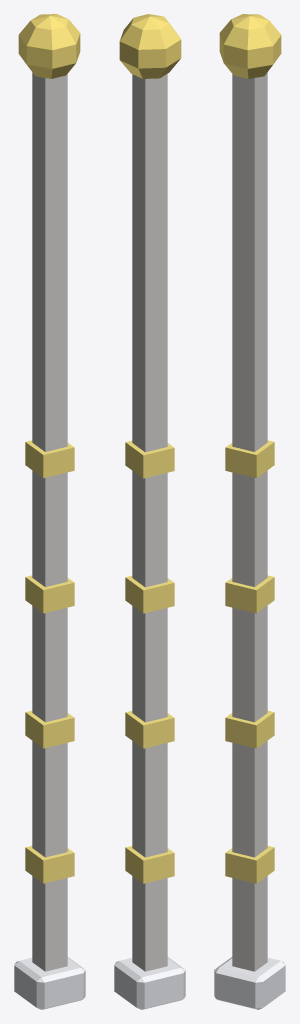
The model's file is CF_ArchPillar.fbx.
3 renders of one model, left to right at view 1: azimuth 30°, elevation 25°; view 2: azimuth 210°, elevation 25°; view 3: azimuth 330°, elevation 25°, orthographic.
Visible parts, largest first — view 1: CF_ArchPillar_Pillar, CF_ArchPillar_Band, CF_ArchPillar_Cap, CF_ArchPillar_Base; view 2: CF_ArchPillar_Pillar, CF_ArchPillar_Band, CF_ArchPillar_Cap, CF_ArchPillar_Base; view 3: CF_ArchPillar_Pillar, CF_ArchPillar_Band, CF_ArchPillar_Cap, CF_ArchPillar_Base.
Part boxes in pixels (x1,y1,x2,y2): CF_ArchPillar_Pillar: (32, 72, 67, 971); CF_ArchPillar_Band: (25, 440, 74, 883); CF_ArchPillar_Cap: (18, 14, 80, 78); CF_ArchPillar_Base: (14, 957, 85, 1009); CF_ArchPillar_Pillar: (132, 74, 167, 971); CF_ArchPillar_Band: (125, 440, 174, 883); CF_ArchPillar_Cap: (119, 14, 181, 78); CF_ArchPillar_Base: (114, 957, 185, 1009); CF_ArchPillar_Pillar: (232, 72, 267, 971); CF_ArchPillar_Band: (225, 440, 274, 883); CF_ArchPillar_Cap: (219, 14, 281, 78); CF_ArchPillar_Base: (214, 957, 285, 1009).
Size of the model in its own units: 1.21 by 21.05 by 1.18.
